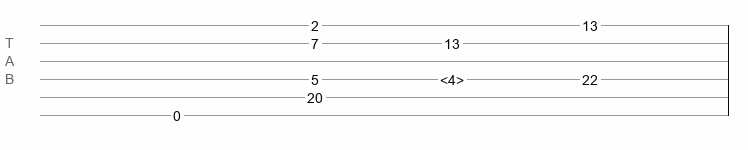0: (173, 108, 181, 118)
13: (444, 36, 460, 46), (582, 18, 598, 28)
2: (311, 18, 319, 28)
20: (307, 90, 323, 100)
22: (582, 72, 598, 82)
5: (311, 72, 319, 82)
7: (311, 36, 319, 46)
harmonic: (440, 72, 464, 82)
